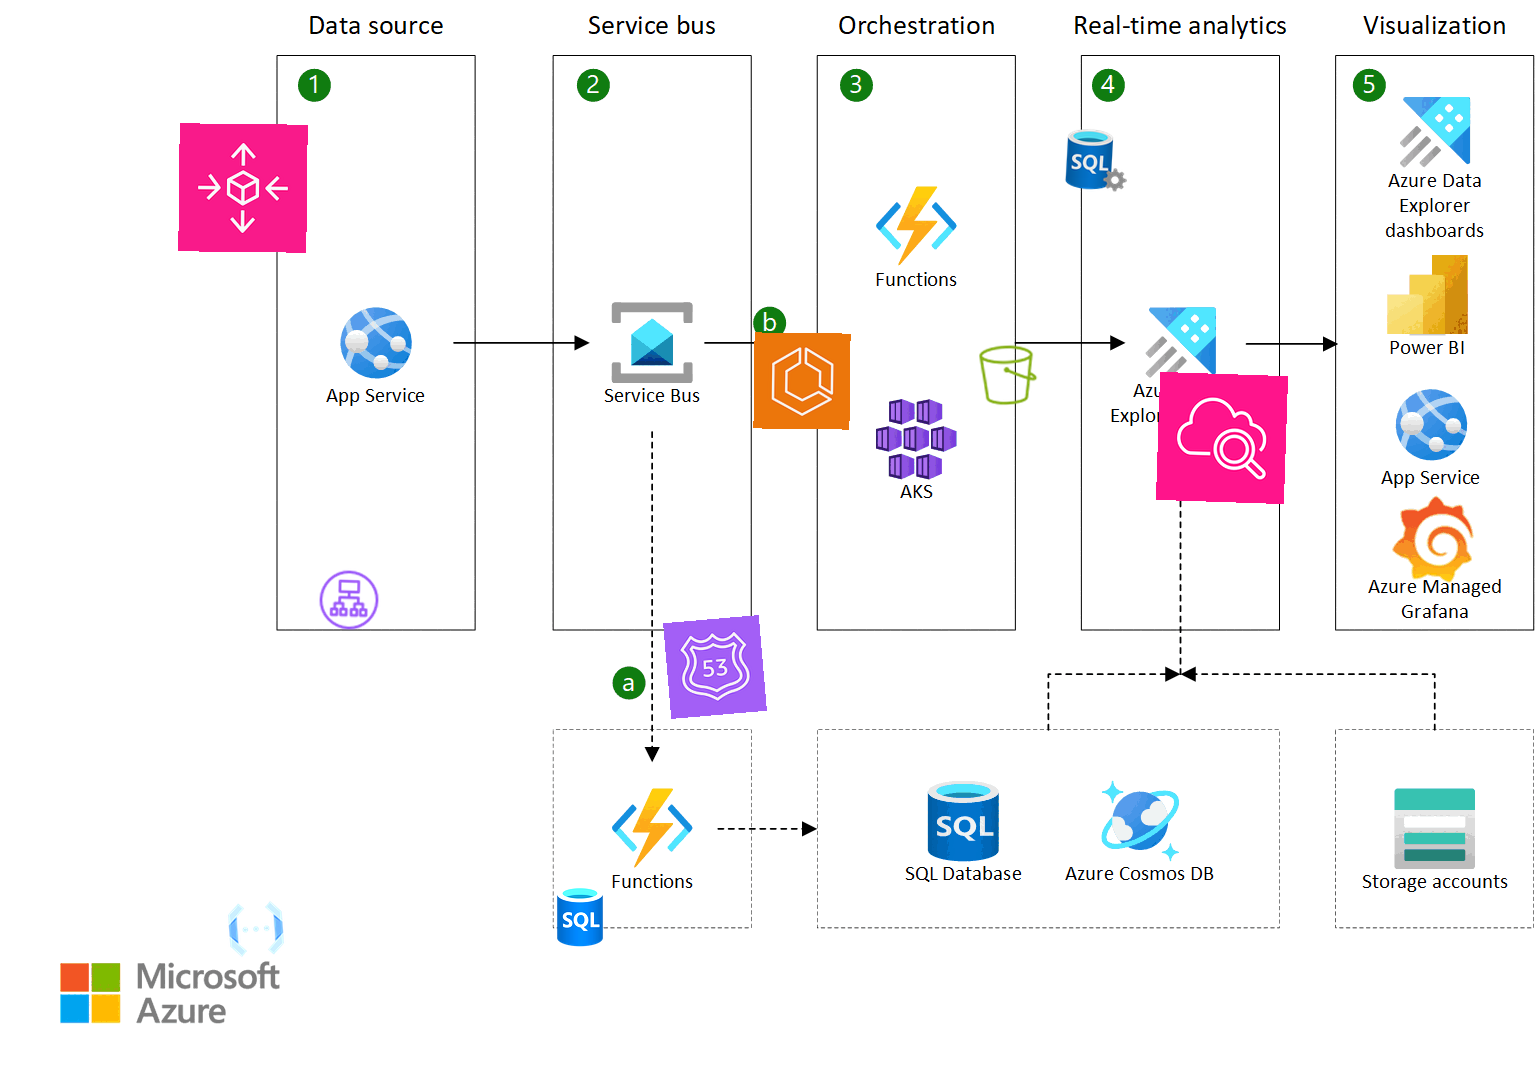aws_amazon_cloudwatch: (1155, 372, 1289, 505)
aws_amazon_elastic_container_service: (753, 332, 851, 430)
aws_amazon_route_53: (663, 615, 767, 718)
aws_auto_scaling: (178, 123, 308, 253)
aws_elastic_load_balancing_application_load_balancer: (316, 567, 382, 633)
aws_simple_storage_service_s3_standard: (975, 342, 1041, 408)
azure_sql_database: (547, 883, 613, 949)
azure_sql_server: (1063, 127, 1131, 195)
gcp_cloud_functions: (221, 894, 291, 963)
